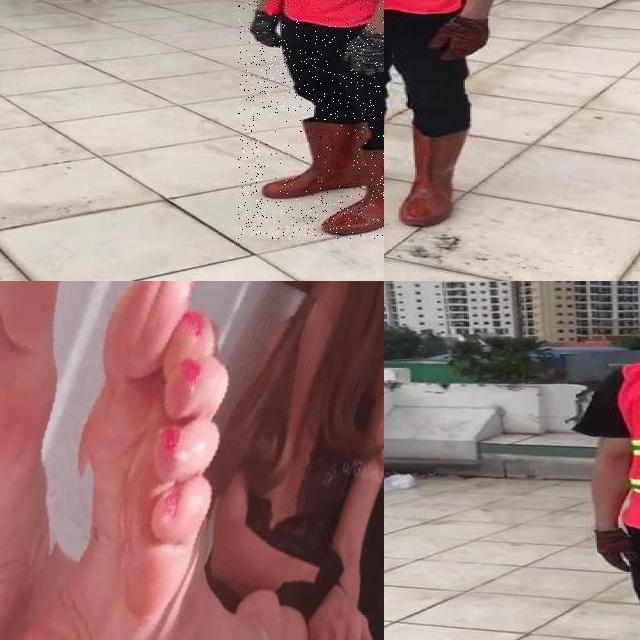Barefoots: (23, 281, 241, 640), (0, 281, 68, 640)
boots: (259, 121, 371, 200), (401, 129, 465, 227), (324, 143, 384, 236)
hand_glove: (428, 13, 488, 60), (594, 529, 640, 575)
person: (384, 0, 544, 227), (238, 0, 384, 239), (587, 281, 640, 640)
